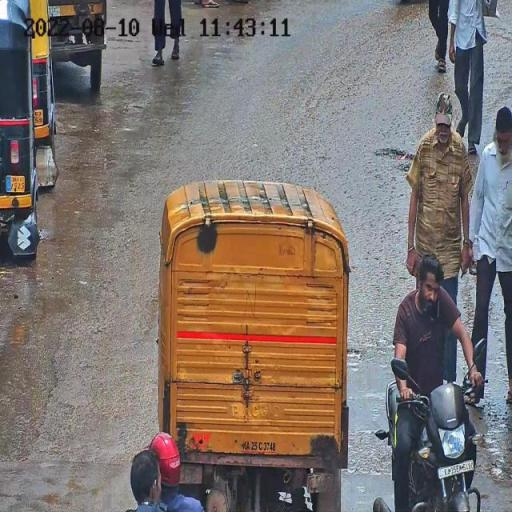using mobile: (434, 272, 444, 330)
